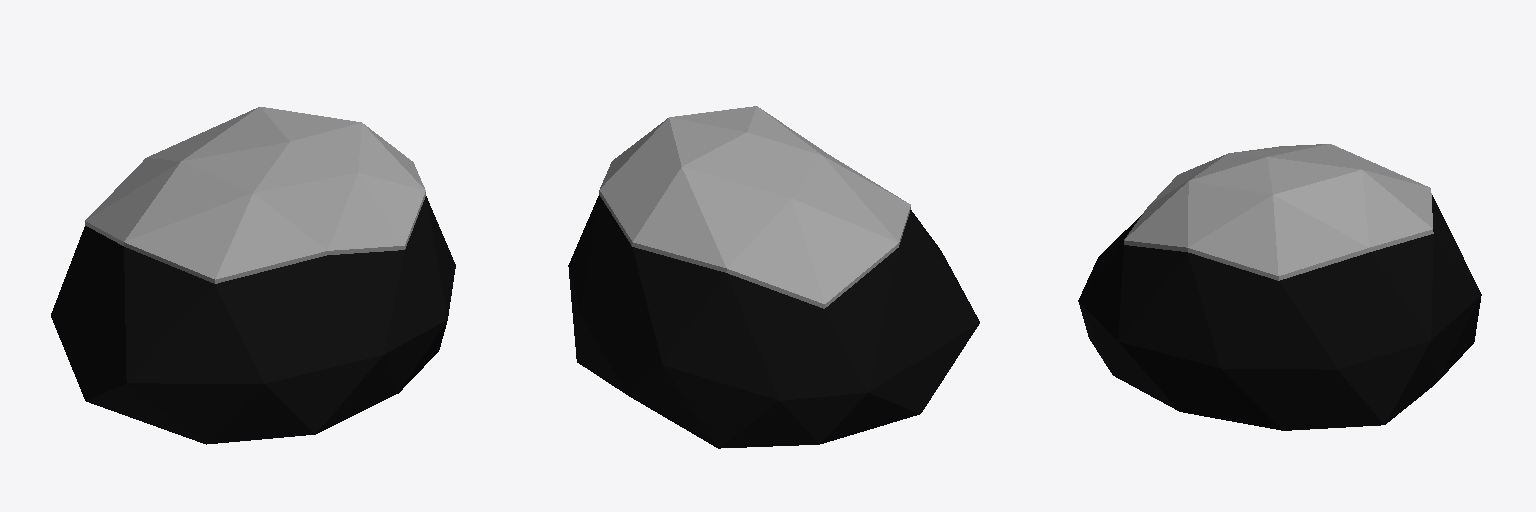
Rendered from low_poly_winter_stone2.obj.
3 views of the same model, side by side, from view 1: azimuth 30°, elevation 25°; view 2: azimuth 150°, elevation 25°; view 3: azimuth 270°, elevation 25° (orthographic).
Visible parts, largest first — view 1: Icosphere.006_Icosphere.000; view 2: Icosphere.006_Icosphere.000; view 3: Icosphere.006_Icosphere.000.
Part boxes in pixels (x1,y1,x2,y2): Icosphere.006_Icosphere.000: (51, 107, 455, 444); Icosphere.006_Icosphere.000: (568, 106, 979, 448); Icosphere.006_Icosphere.000: (1078, 144, 1481, 430).
Bounding box in the file's own units: 1.36 × 0.8549 × 1.39.